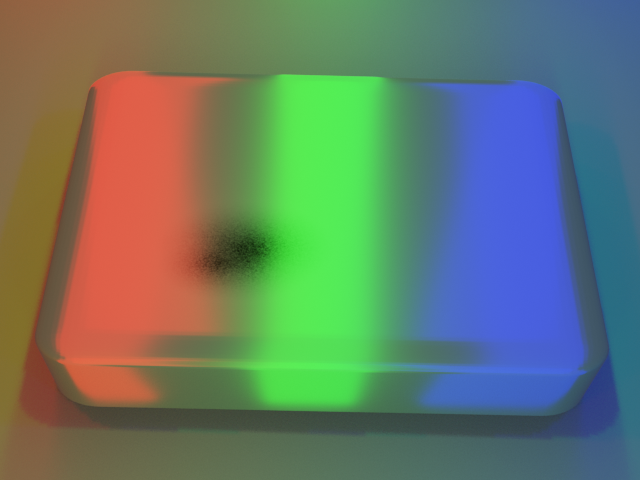stain: (103, 177, 364, 330)
